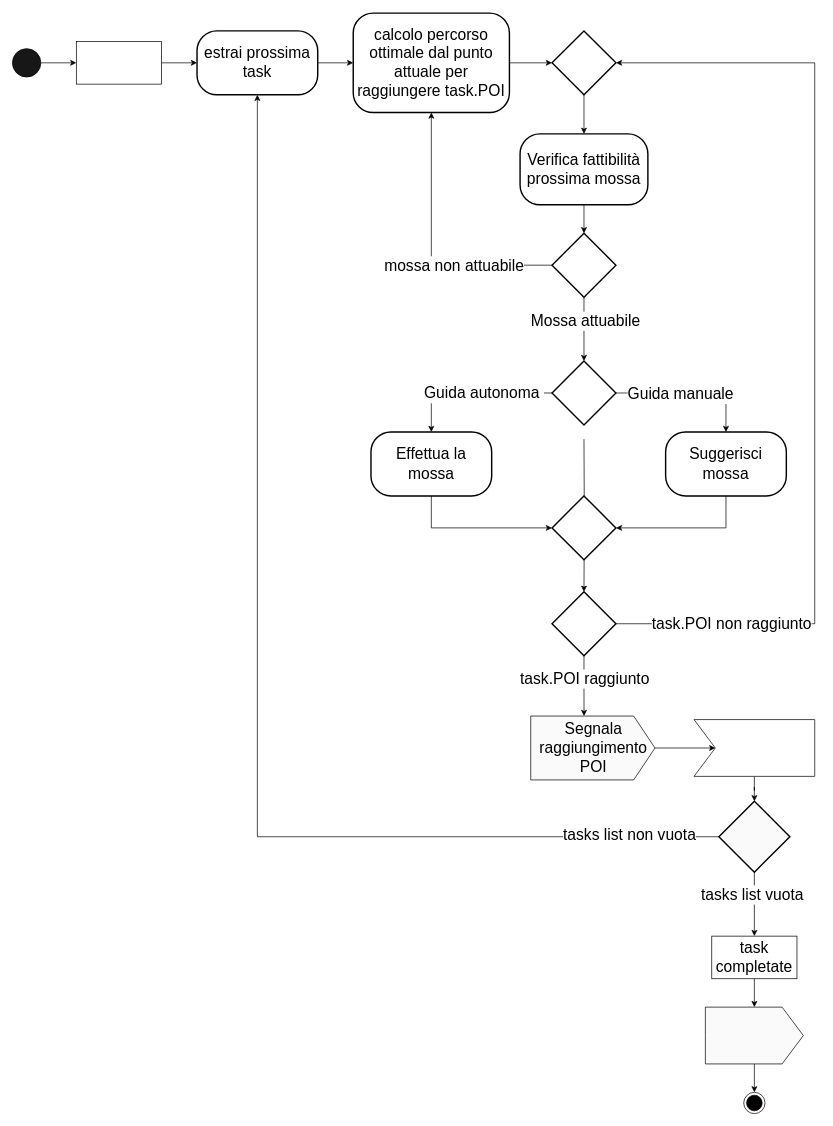
Some shapes in this 833 by 1126 pixel diagram are drawn without their labels. The centre of each missing label's shape, as x and y in pixels:
"lista task, mappa" belongs at pixel 119 62.
"Ricevuta conferma scarico" belongs at pixel 754 747.
"Segnala Unità libera" belongs at pixel 754 1035.
